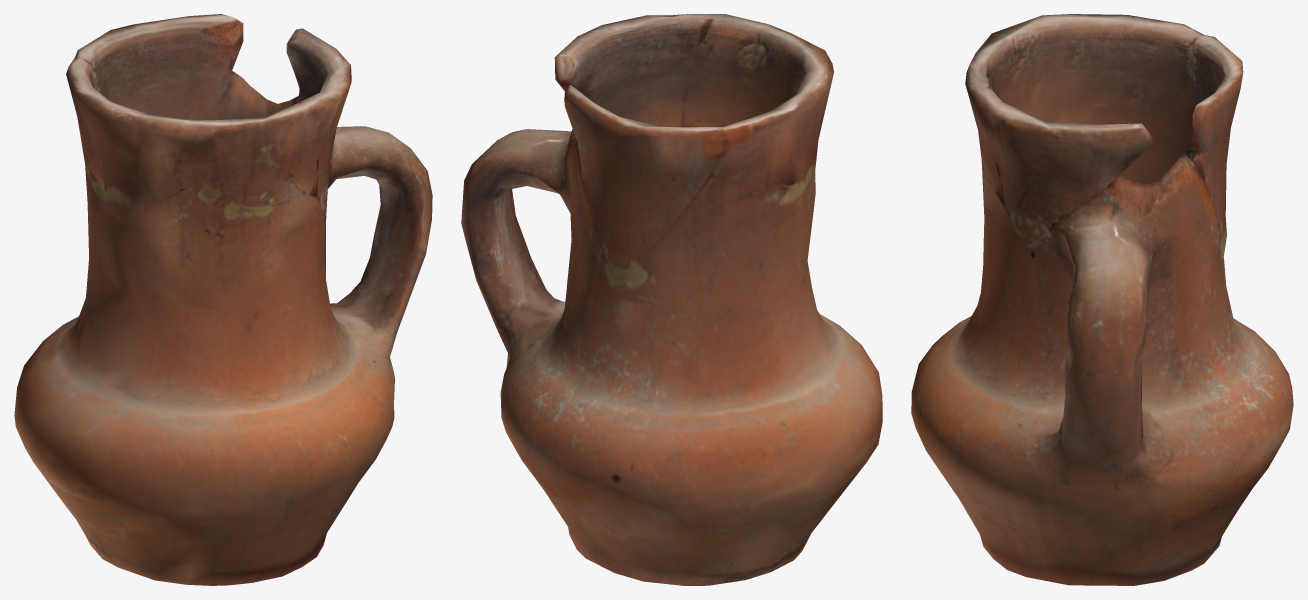
The picture shows the model from 3 angles, left to right: view 1: azimuth 30°, elevation 25°; view 2: azimuth 150°, elevation 25°; view 3: azimuth 270°, elevation 25°; orthographic projection.
Parts seen in each view (by area): view 1: mal_kuvshin2_fix; view 2: mal_kuvshin2_fix; view 3: mal_kuvshin2_fix.
Boxes of the visible parts, bbox=[...] form: mal_kuvshin2_fix: bbox=[14, 14, 432, 585]; mal_kuvshin2_fix: bbox=[461, 14, 882, 585]; mal_kuvshin2_fix: bbox=[911, 14, 1293, 585].
Bounding box in the file's own units: 3.25 × 3.79 × 2.78.
Materials: 1 (1 with a texture image).
